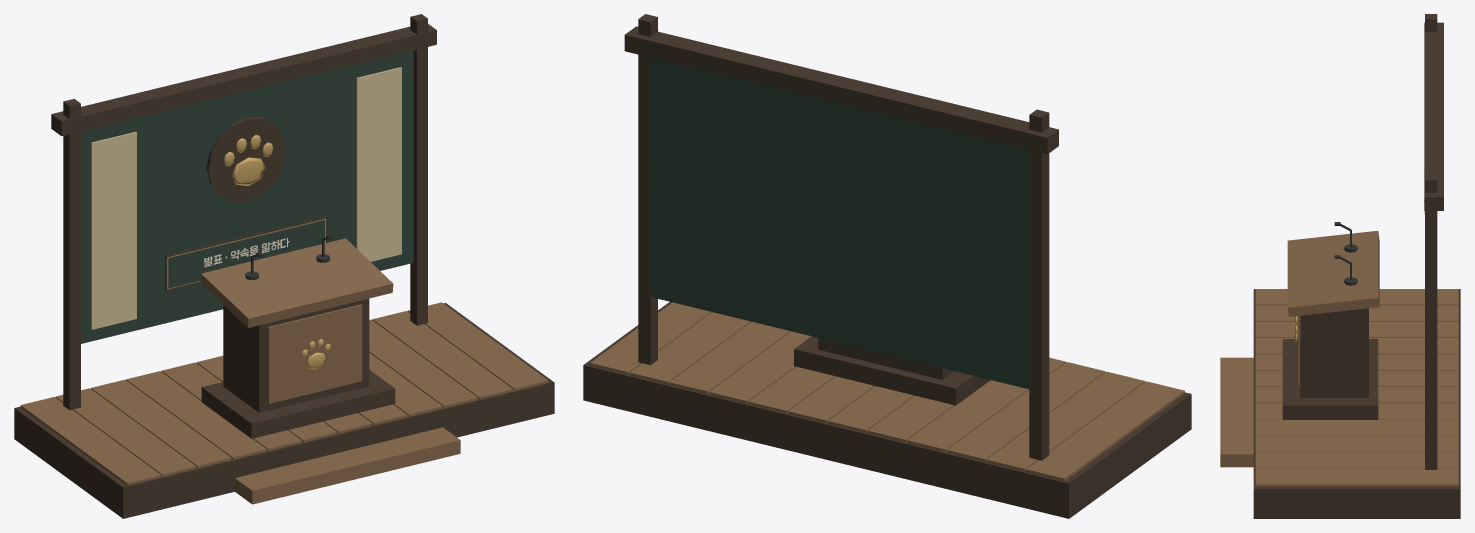
File: 10_Leadership_Speech_Stage.fbx
3 views of the same model, side by side, from view 1: azimuth 30°, elevation 25°; view 2: azimuth 150°, elevation 25°; view 3: azimuth 270°, elevation 25° (orthographic). The views are drawn at different scales.
Visible parts, largest first — view 1: 10_Leadership_Speech_Stage__Structure; view 2: 10_Leadership_Speech_Stage__Structure; view 3: 10_Leadership_Speech_Stage__Structure.
Boxes of the visible parts, <box> form: 10_Leadership_Speech_Stage__Structure: <box>14,14,554,518</box>; 10_Leadership_Speech_Stage__Structure: <box>583,14,1191,518</box>; 10_Leadership_Speech_Stage__Structure: <box>1220,14,1460,518</box>.
Size of the model in its own units: 462 by 346 by 234.
Materials: 1 (1 with a texture image).
